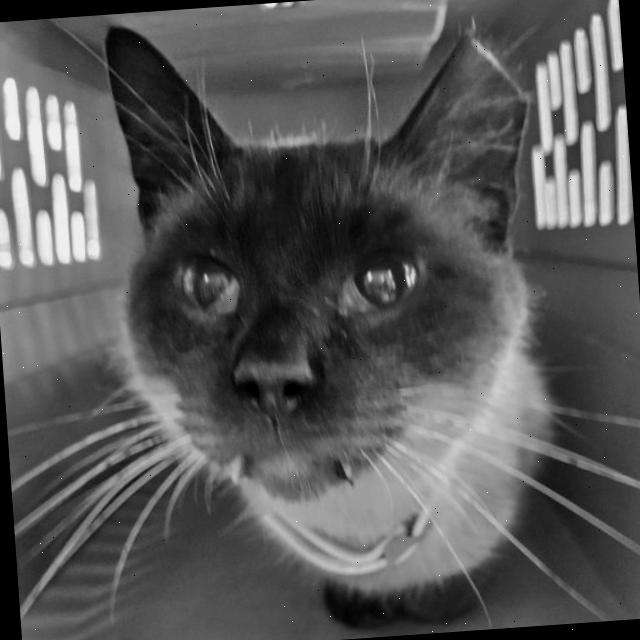siamese_cat: (47, 0, 581, 563)
